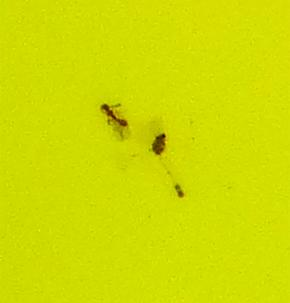Hymenoptera: (100, 100, 131, 138)
Nematocera: (147, 127, 190, 203)
